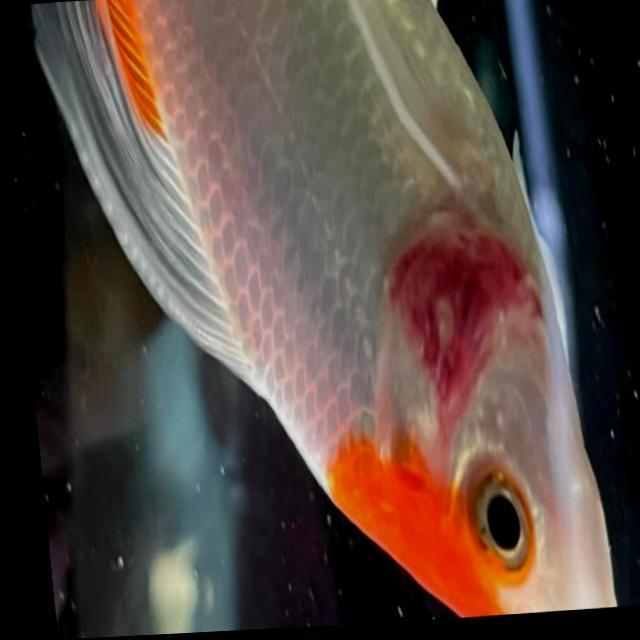Gill Disease: (194, 184, 629, 605)
